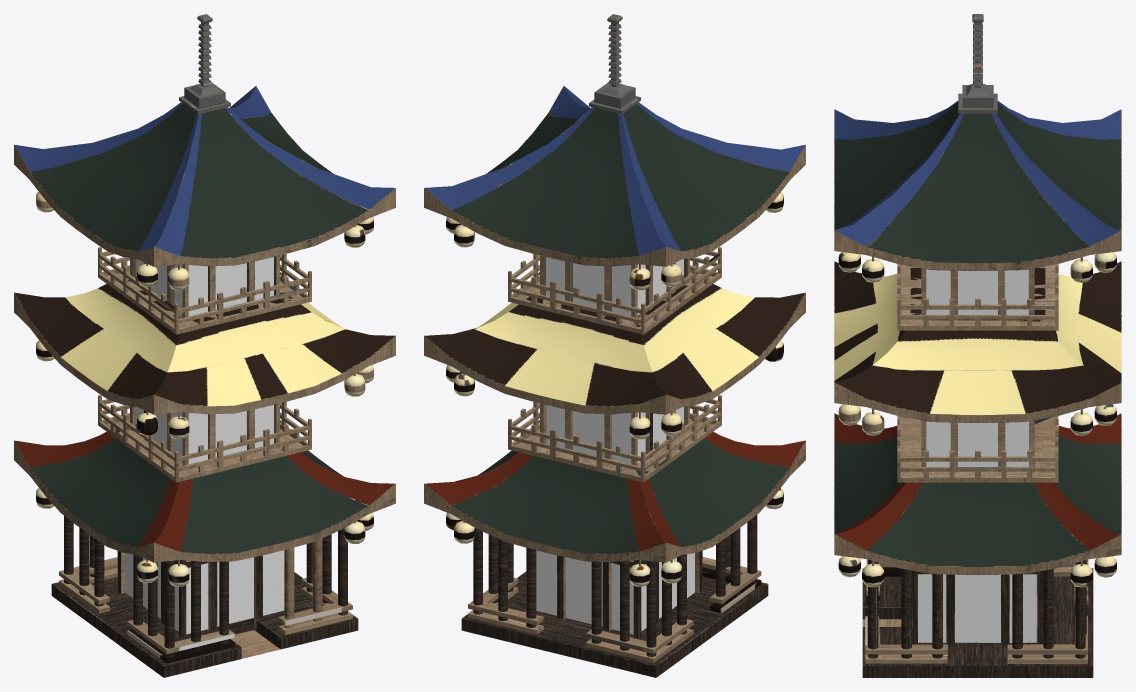
The model's file is japanese.tem3pl4e1383.glb.
3 views of the same model, side by side, from view 1: azimuth 30°, elevation 25°; view 2: azimuth 150°, elevation 25°; view 3: azimuth 270°, elevation 25° (orthographic). The views are drawn at different scales.
Visible parts, largest first — view 1: Temple_Merged; view 2: Temple_Merged; view 3: Temple_Merged.
Boxes of the visible parts, box(x1,y1,x2,y2) form: Temple_Merged: box(14, 14, 395, 677); Temple_Merged: box(424, 14, 805, 677); Temple_Merged: box(834, 14, 1121, 677).
Bounding box in the file's own units: 6.12 × 14.44 × 6.12.
1 material, 1 textured.
